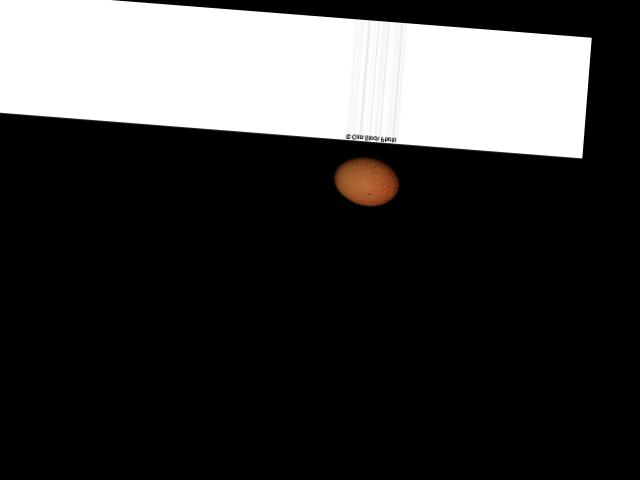egg: (332, 152, 401, 207)
